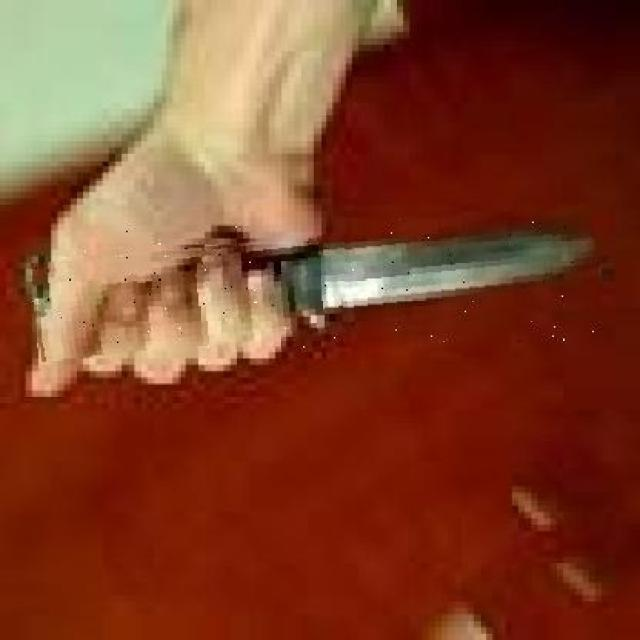knife: (32, 220, 600, 348)
